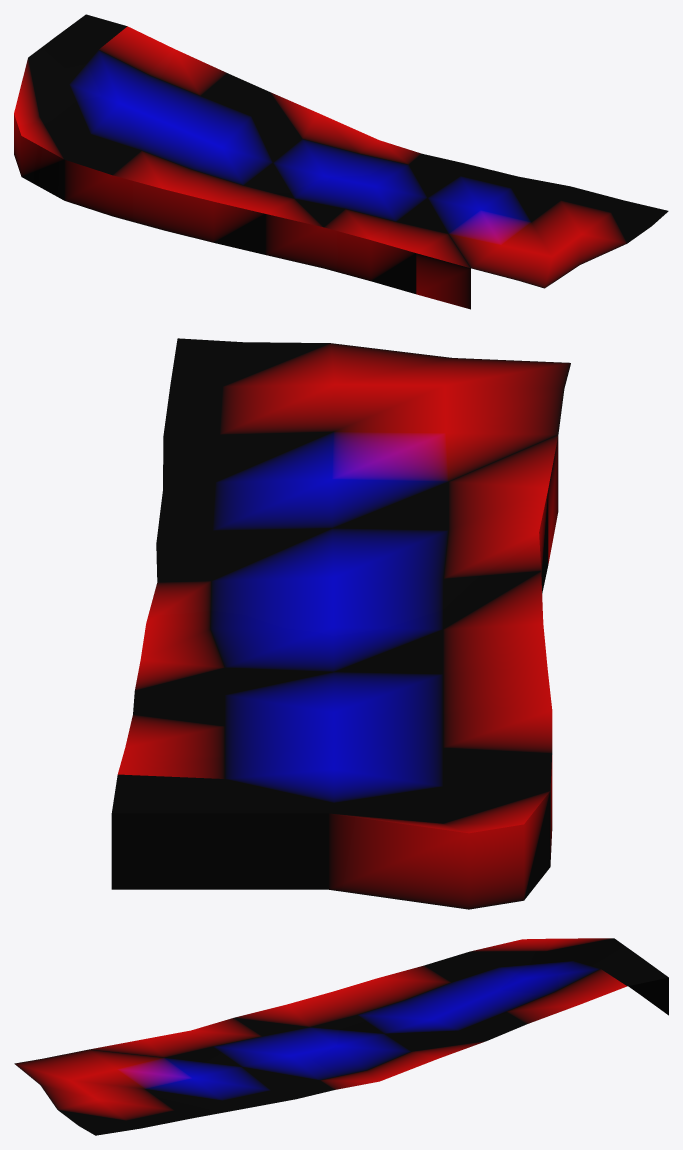
File: Ground_Z3.FBX
The picture shows the model from 3 angles, top to bottom: view 1: azimuth 30°, elevation 25°; view 2: azimuth 150°, elevation 25°; view 3: azimuth 270°, elevation 25°; orthographic projection. The views are drawn at different scales.
Visible parts, largest first — view 1: Plane001; view 2: Plane001; view 3: Plane001.
Boxes of the visible parts, x1,y1,x2,y2 form: Plane001: (14, 14, 668, 309); Plane001: (111, 338, 570, 909); Plane001: (14, 938, 668, 1135).
Size of the model in its own units: 2729 by 531 by 4002.
